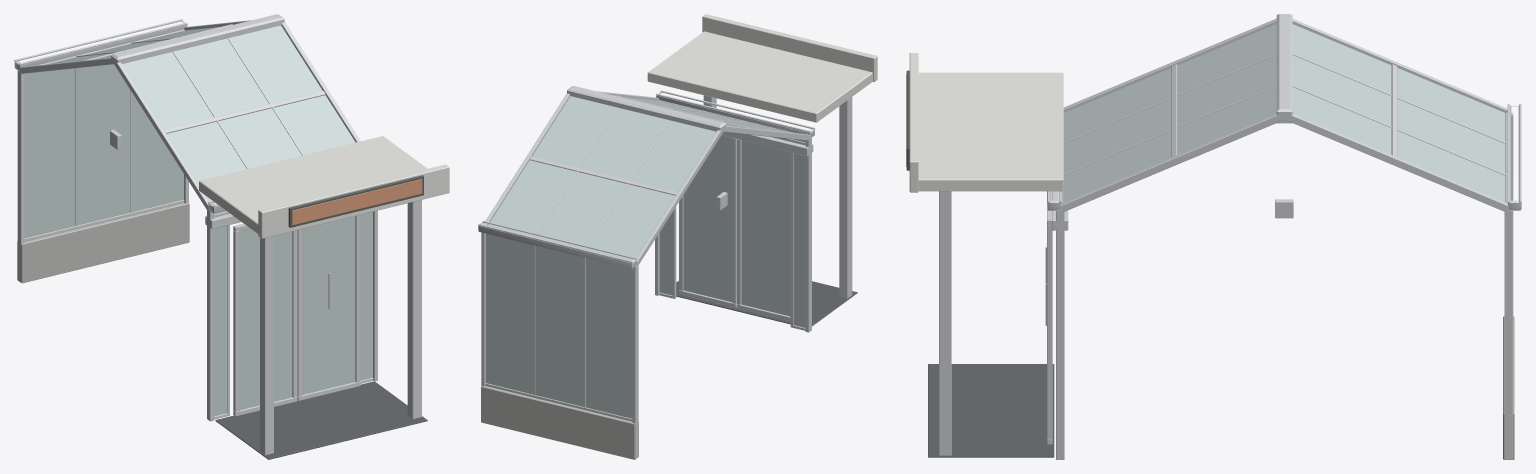
File: garden-centre-and-florist-glasshouse-entrance-lobby-a84b7767__17709.glb
3 views of the same model, side by side, from view 1: azimuth 30°, elevation 25°; view 2: azimuth 150°, elevation 25°; view 3: azimuth 270°, elevation 25° (orthographic). The views are drawn at different scales.
Visible parts, largest first — view 1: glasshouse-entrance-lobby, lobby-leaf-right (×2), lobby-leaf-left (×2); view 2: glasshouse-entrance-lobby, lobby-leaf-left (×2), lobby-leaf-right (×2); view 3: glasshouse-entrance-lobby, lobby-leaf-right.
Boxes of the visible parts, bbox=[...] form: glasshouse-entrance-lobby: bbox=[14, 14, 449, 459]; lobby-leaf-right (×2): bbox=[297, 215, 360, 400]; lobby-leaf-left (×2): bbox=[233, 223, 297, 416]; glasshouse-entrance-lobby: bbox=[478, 14, 877, 459]; lobby-leaf-left (×2): bbox=[737, 139, 790, 321]; lobby-leaf-right (×2): bbox=[679, 135, 736, 307]; glasshouse-entrance-lobby: bbox=[906, 14, 1521, 459]; lobby-leaf-right: bbox=[1045, 191, 1052, 444].
Bounding box in the file's own units: 2.24 × 3.36 × 5.35.
